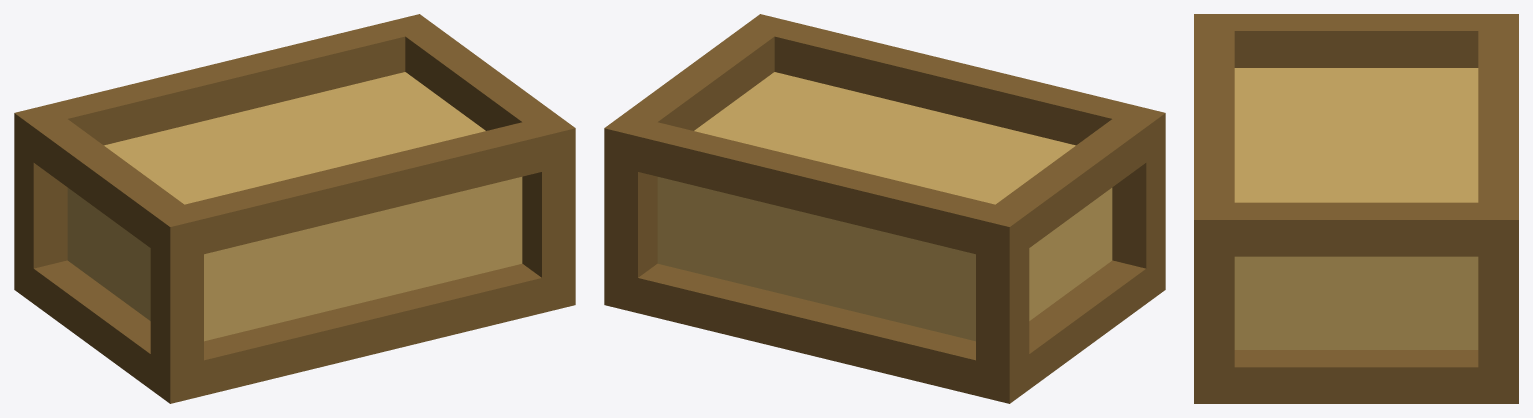
Rendered from boxbig.obj.
3 views of the same model, side by side, from view 1: azimuth 30°, elevation 25°; view 2: azimuth 150°, elevation 25°; view 3: azimuth 270°, elevation 25° (orthographic). The views are drawn at different scales.
Size of the model in its own units: 1.2 by 0.5 by 0.8.
1 material, 1 textured.
